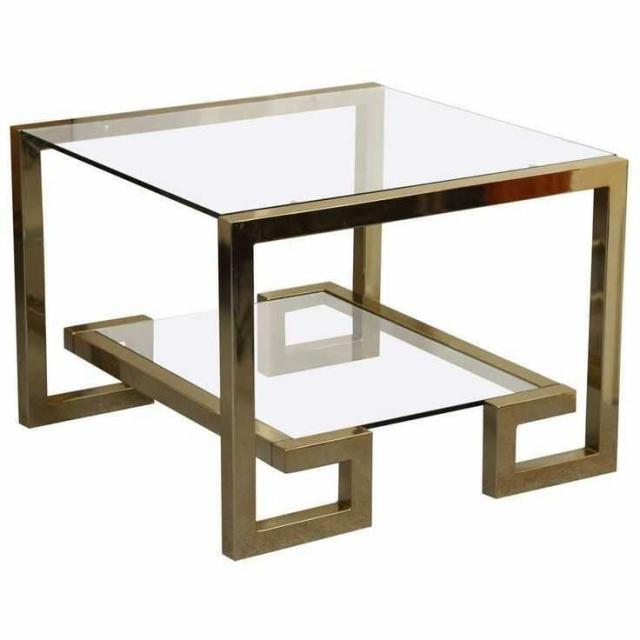table: (7, 74, 632, 567)
